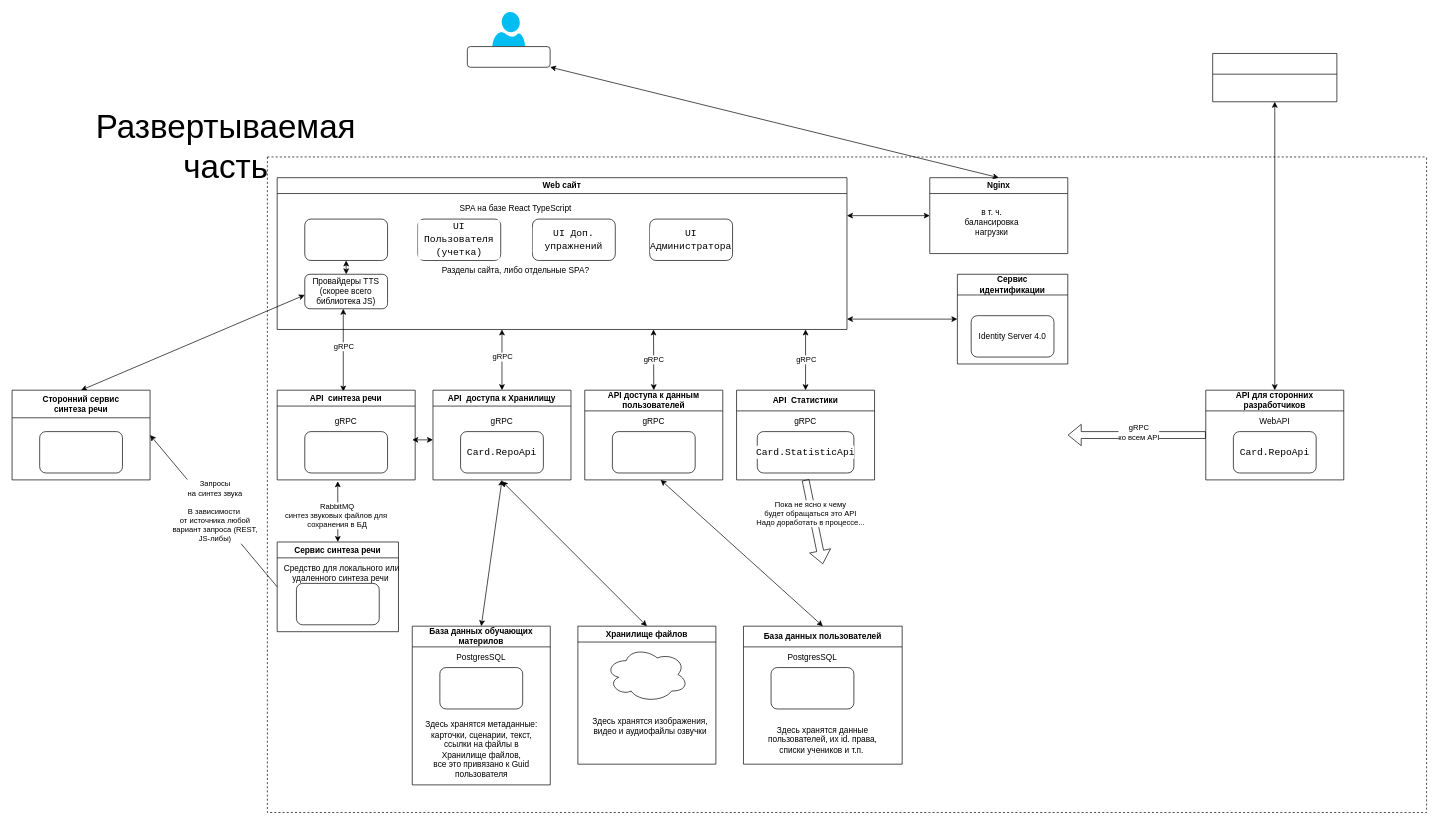
Some shapes in this 1439 by 825 pixel diagram are drawn without their labels. Each missing label, with the centre of its shape:
"Browser" goes at (508,56).
"Card.TTS" goes at (337,604).
"Card.TTSApi" goes at (346,452).
"Card.UsersApi" goes at (653,452).
"RepoDB" goes at (481,688).
"TTS" goes at (80,452).
"UI Обучающегося" goes at (346,239).
"UsersDB" goes at (812,688).
"Любые сторонние приложения" goes at (1274,77).
"Медиафайлы" goes at (646,674).
